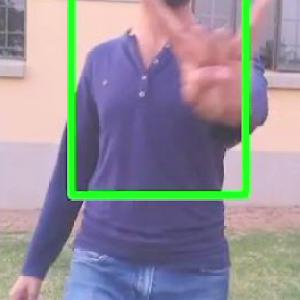takeoff-hand: (135, 0, 288, 157)
